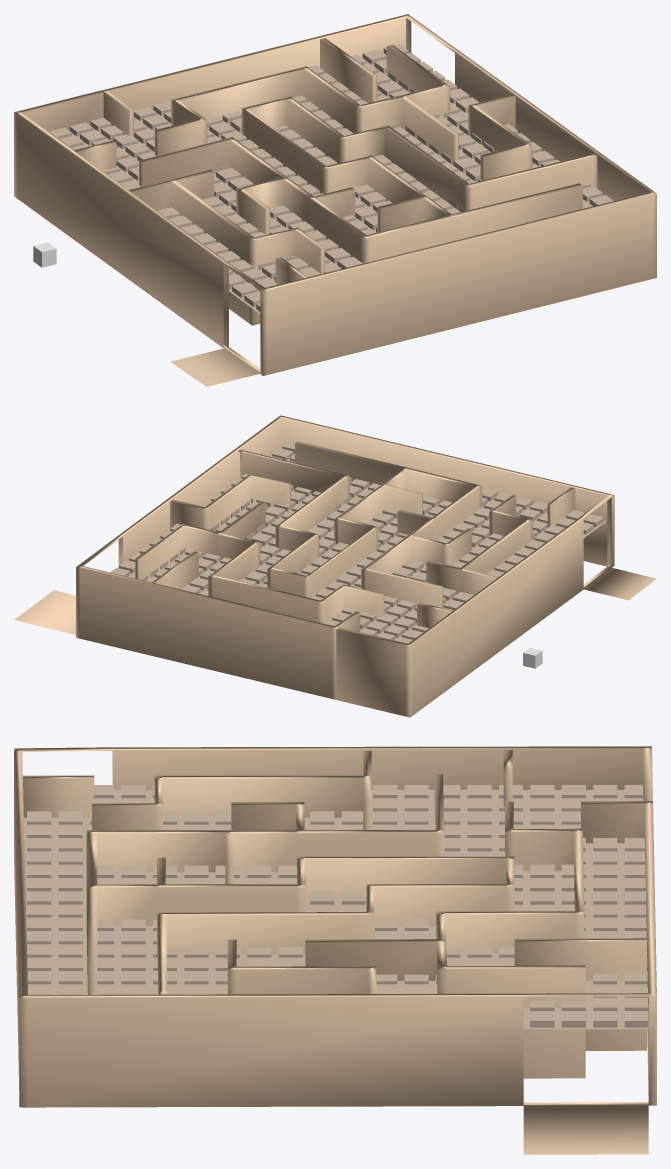
The model's file is Labyrinth_And_Cells (1).fbx.
3 views of the same model, one above another, from view 1: azimuth 30°, elevation 25°; view 2: azimuth 150°, elevation 25°; view 3: azimuth 270°, elevation 25° (orthographic). The views are drawn at different scales.
Parts seen in each view (by area): view 1: Cube_001; view 2: Cube_001; view 3: Cube_001.
Boxes of the visible parts, box(x1,y1,x2,y2) form: Cube_001: box(14, 14, 656, 386); Cube_001: box(14, 415, 656, 717); Cube_001: box(14, 746, 656, 1154).
Bounding box in the file's own units: 3329 × 498 × 2658.
